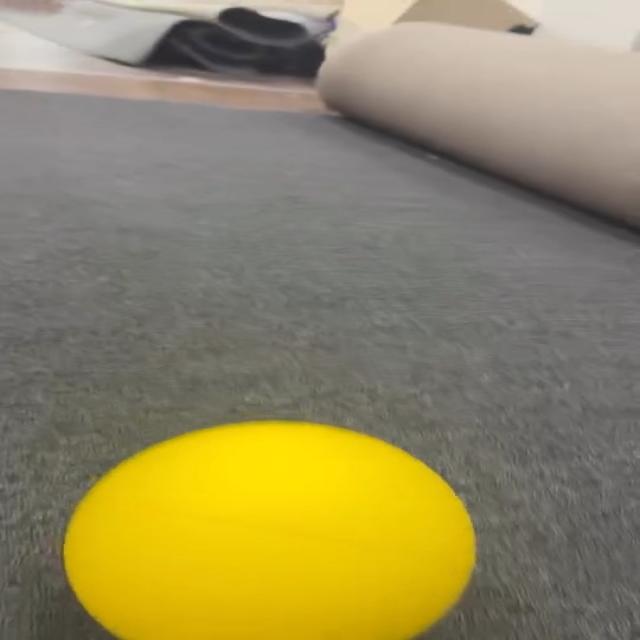Fuels: (65, 421, 472, 637)
